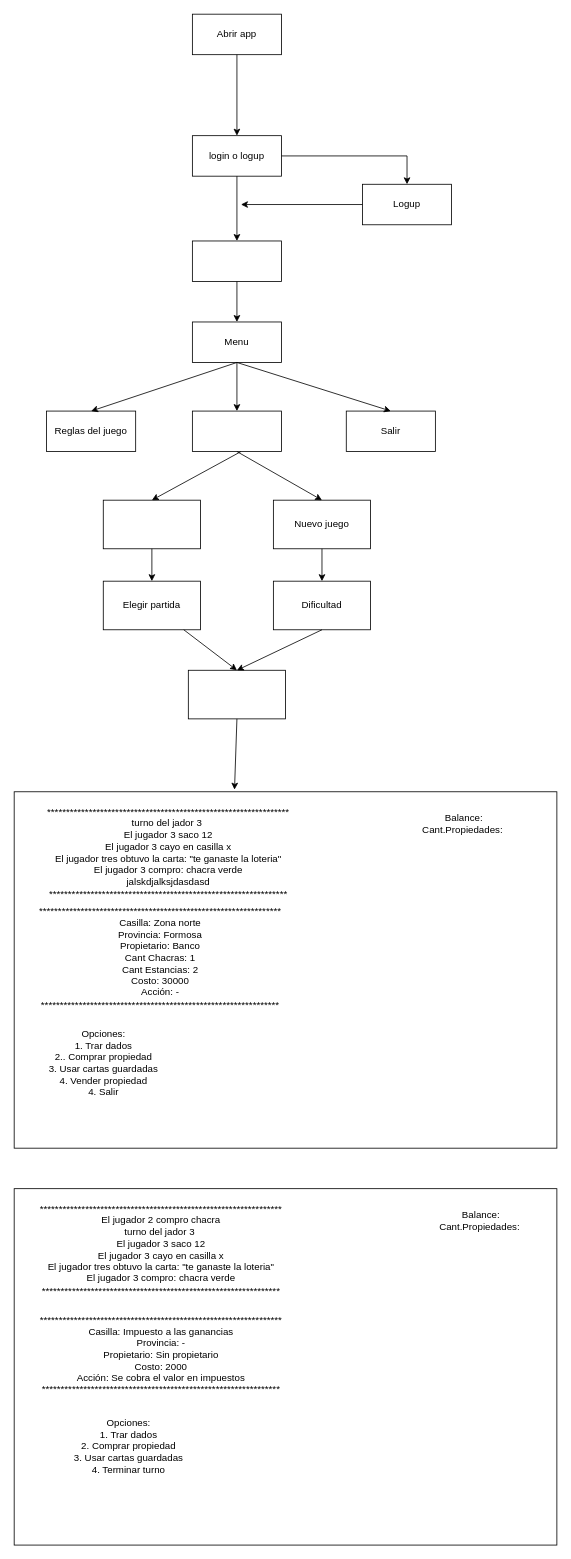
This 571x1559 diagram has some shape labels left out. The centre of each missing label's shape, as x and y in pixels:
"Cargar juego" belongs at (x=151, y=524).
"Empezar juego" belongs at (x=236, y=431).
"Login" belongs at (x=236, y=260).
"Pantalla de juego" belongs at (x=237, y=694).
